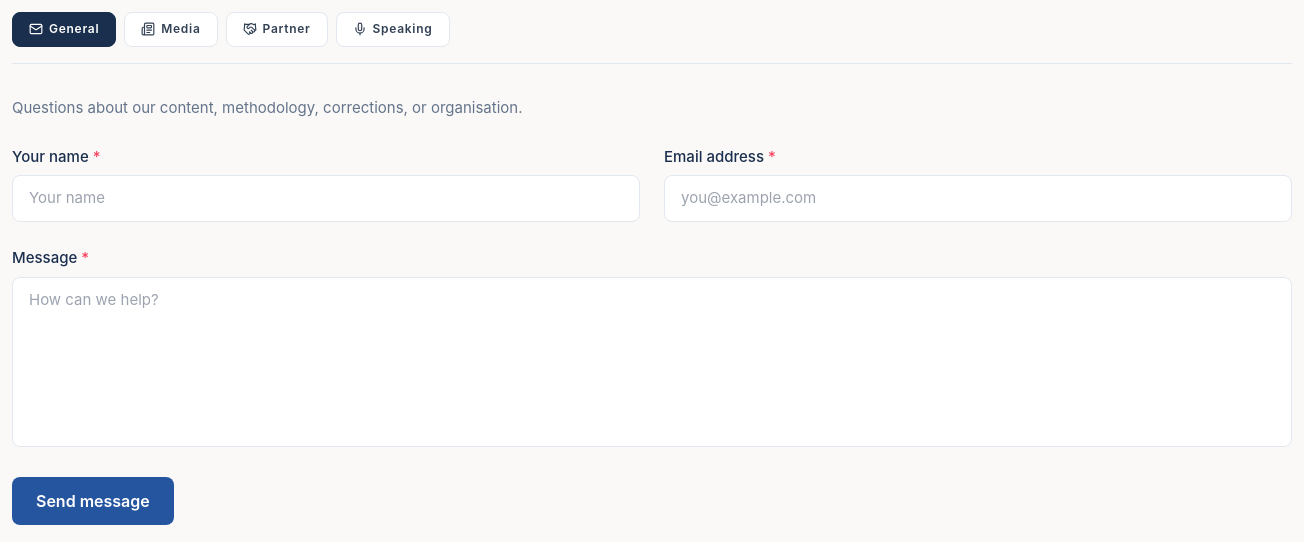
Test: ContactForms › shows success state after submission
Type "Alice" into the field labelled "Your name*" at (326, 199), box [12, 175, 640, 222]
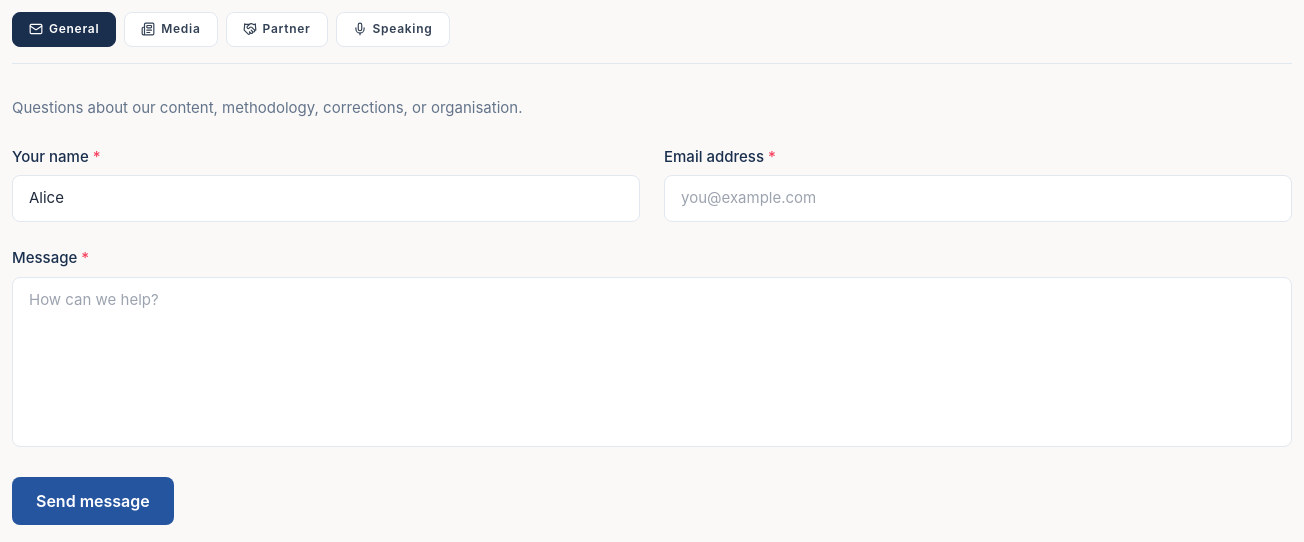
Type "alice@example.com" into the field labelled "Email address*" at (978, 199), box [664, 175, 1292, 222]
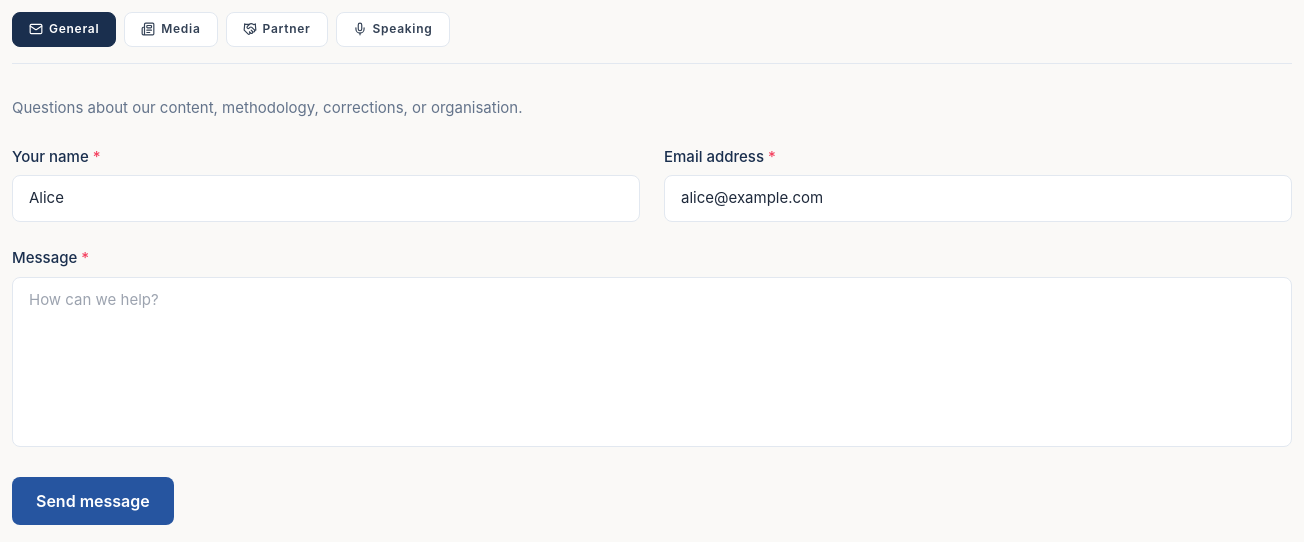
Type "Hello" into the text box labelled "Message*" at (652, 362), box [12, 277, 1292, 447]
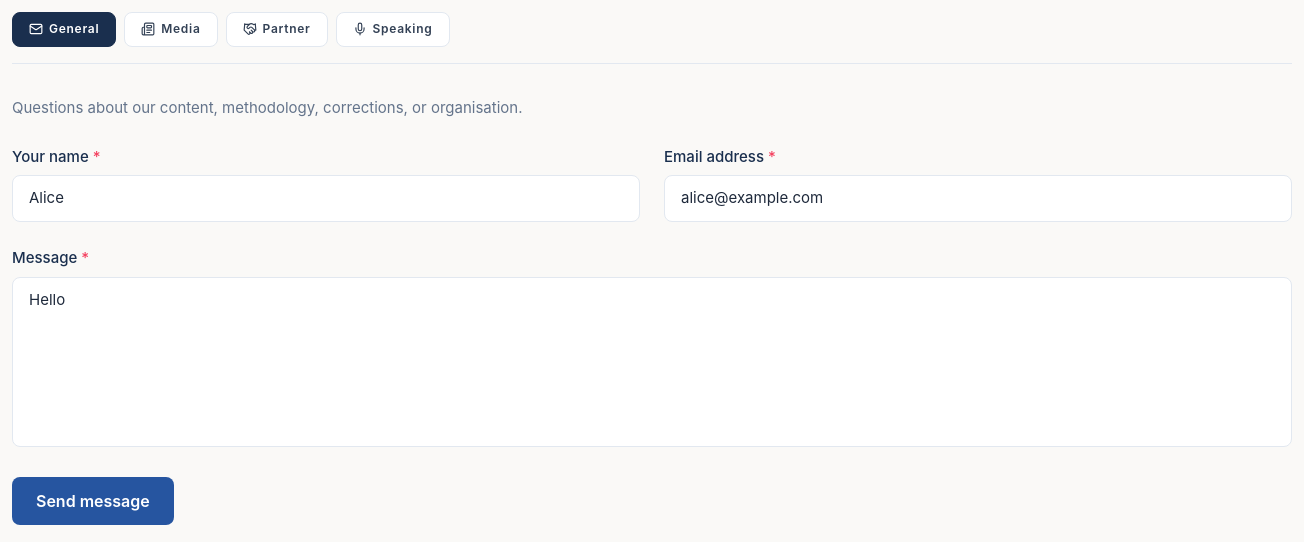
Click the button "Send message" at (93, 501), box [12, 477, 174, 525]
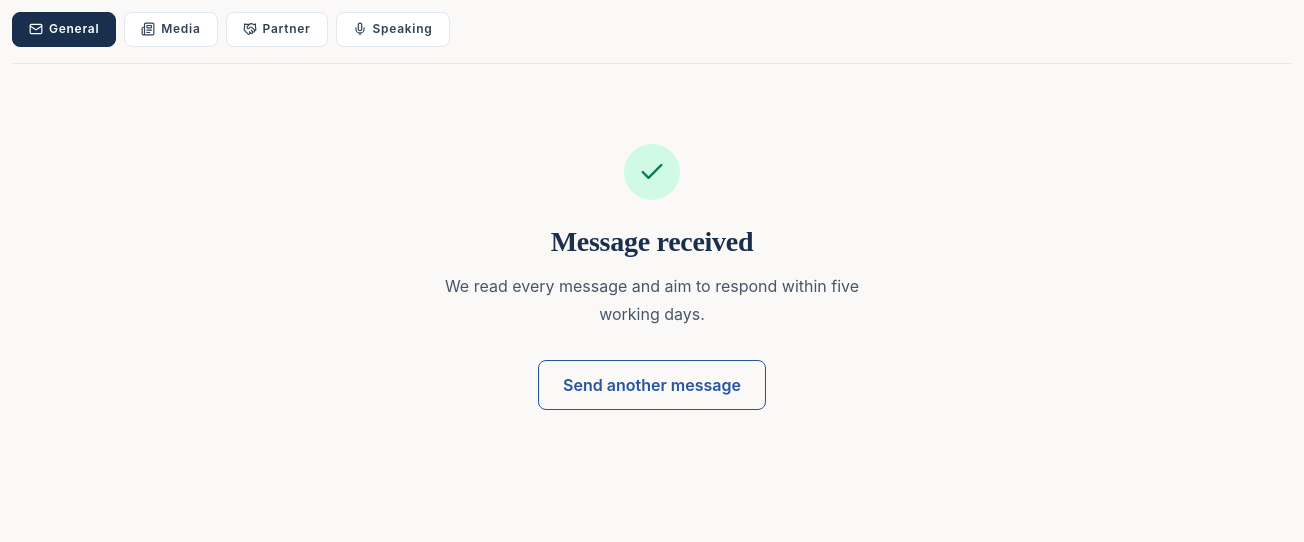
Result: the heading "Message received" is shown at [551, 226, 753, 257]
Result: the button "Send another message" is shown at [538, 360, 766, 410]
